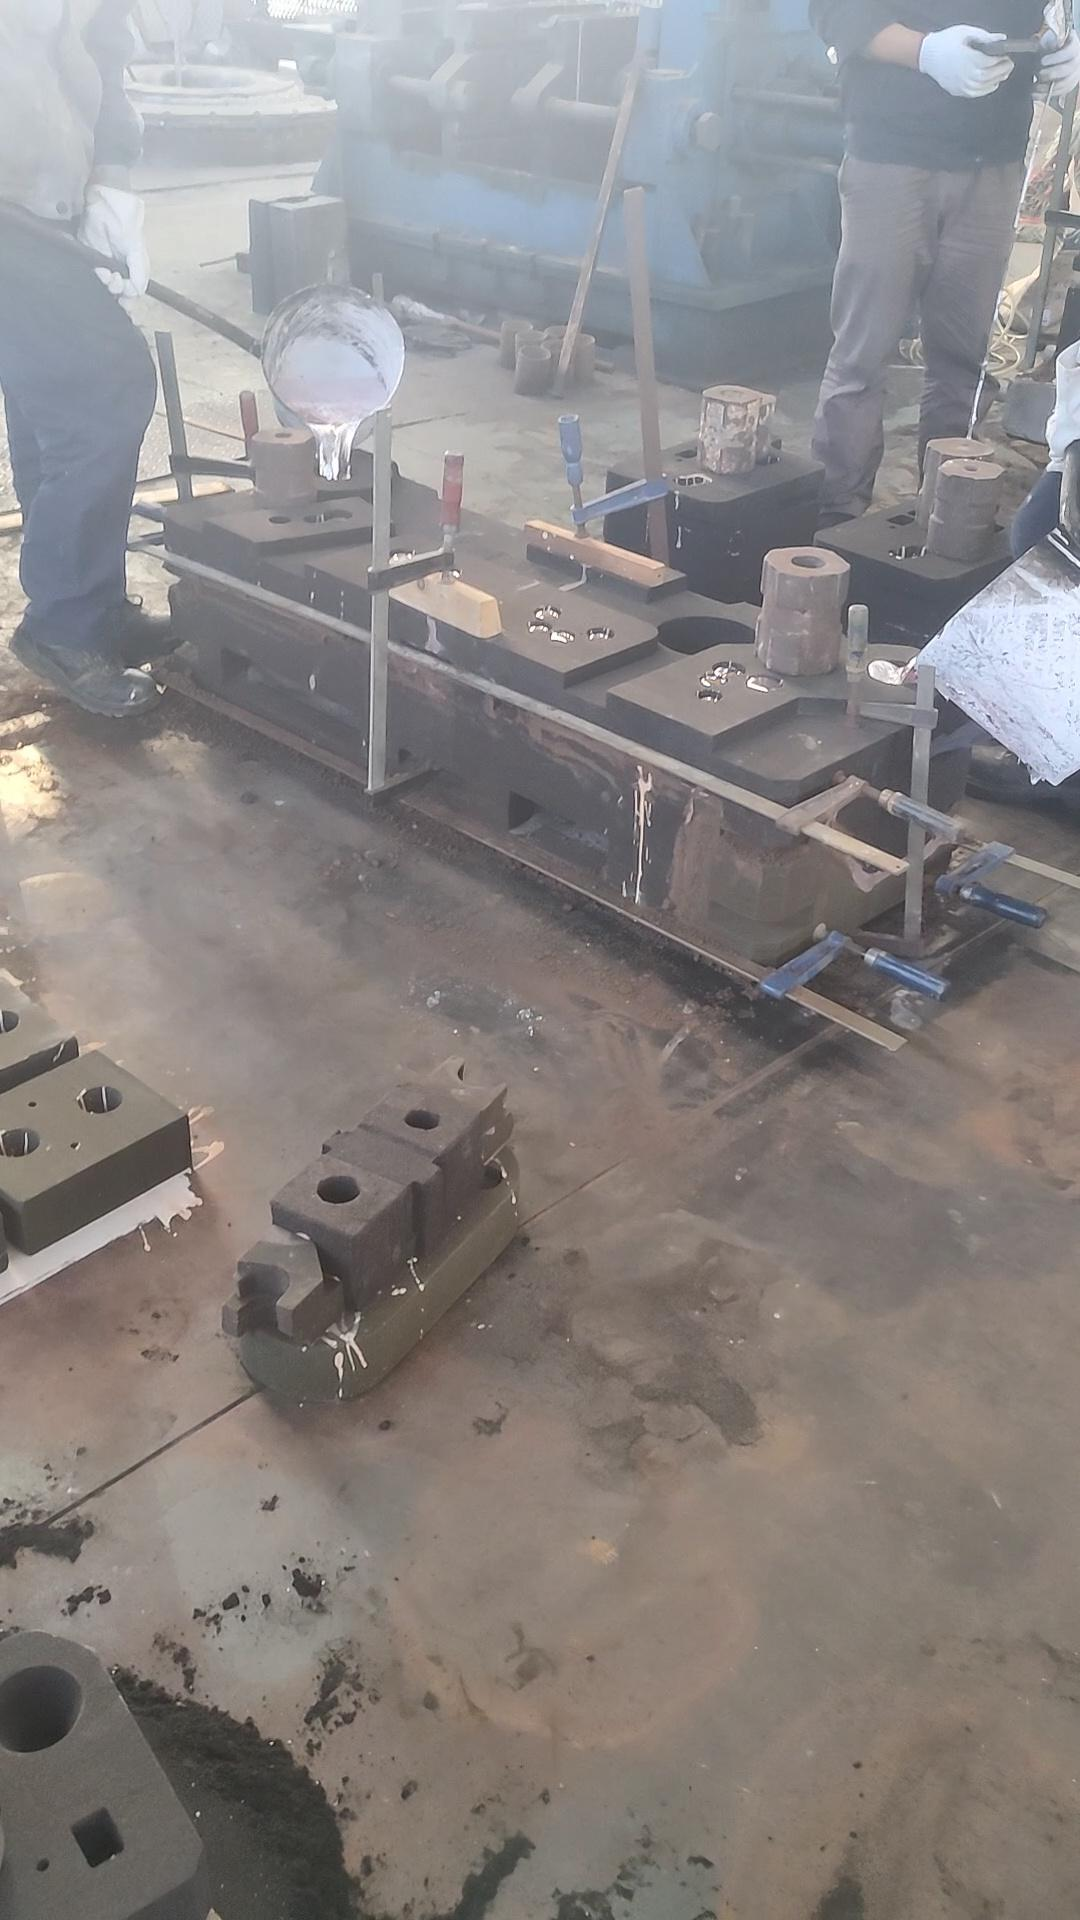pouring hole: (1, 1663, 84, 1754), (868, 657, 919, 684), (1, 1125, 40, 1158), (76, 1087, 121, 1113), (311, 458, 356, 480), (942, 483, 977, 506), (720, 411, 752, 433), (520, 345, 553, 361), (1, 1006, 17, 1036), (516, 328, 549, 342), (563, 332, 596, 345), (502, 318, 531, 332), (542, 338, 571, 352), (545, 324, 576, 338)
